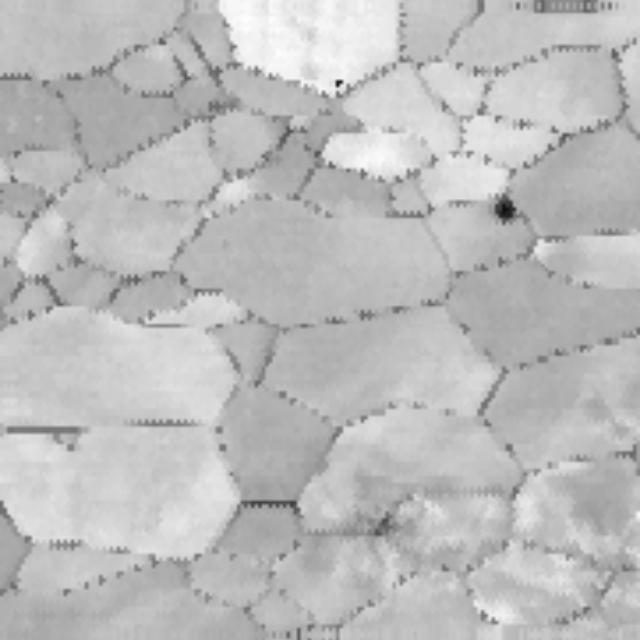good_void: (356, 485, 420, 557), (484, 189, 524, 245), (49, 431, 81, 456), (201, 130, 223, 150), (327, 75, 349, 90)
